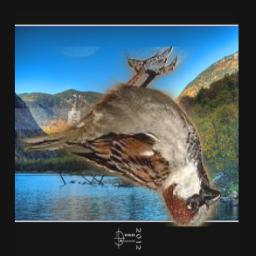Sparrow: (17, 48, 221, 227)
